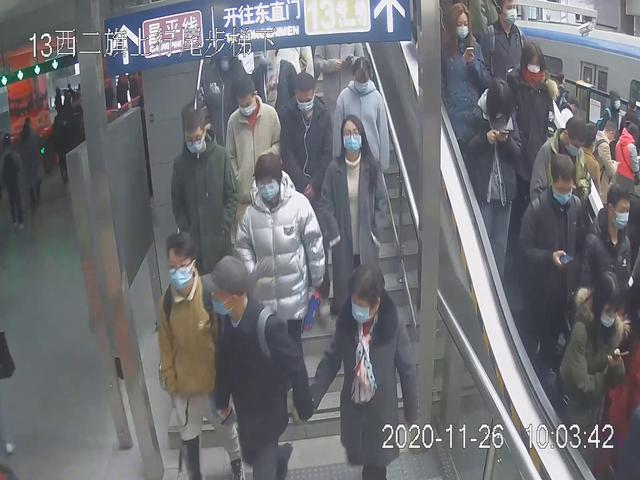person: (310, 262, 420, 480), (209, 252, 314, 480), (235, 148, 329, 396), (157, 231, 244, 480), (322, 115, 394, 342), (172, 102, 240, 342), (558, 269, 633, 477), (522, 153, 586, 396), (463, 76, 522, 309), (435, 1, 490, 217), (328, 57, 393, 224), (281, 71, 337, 241), (226, 81, 285, 237)
